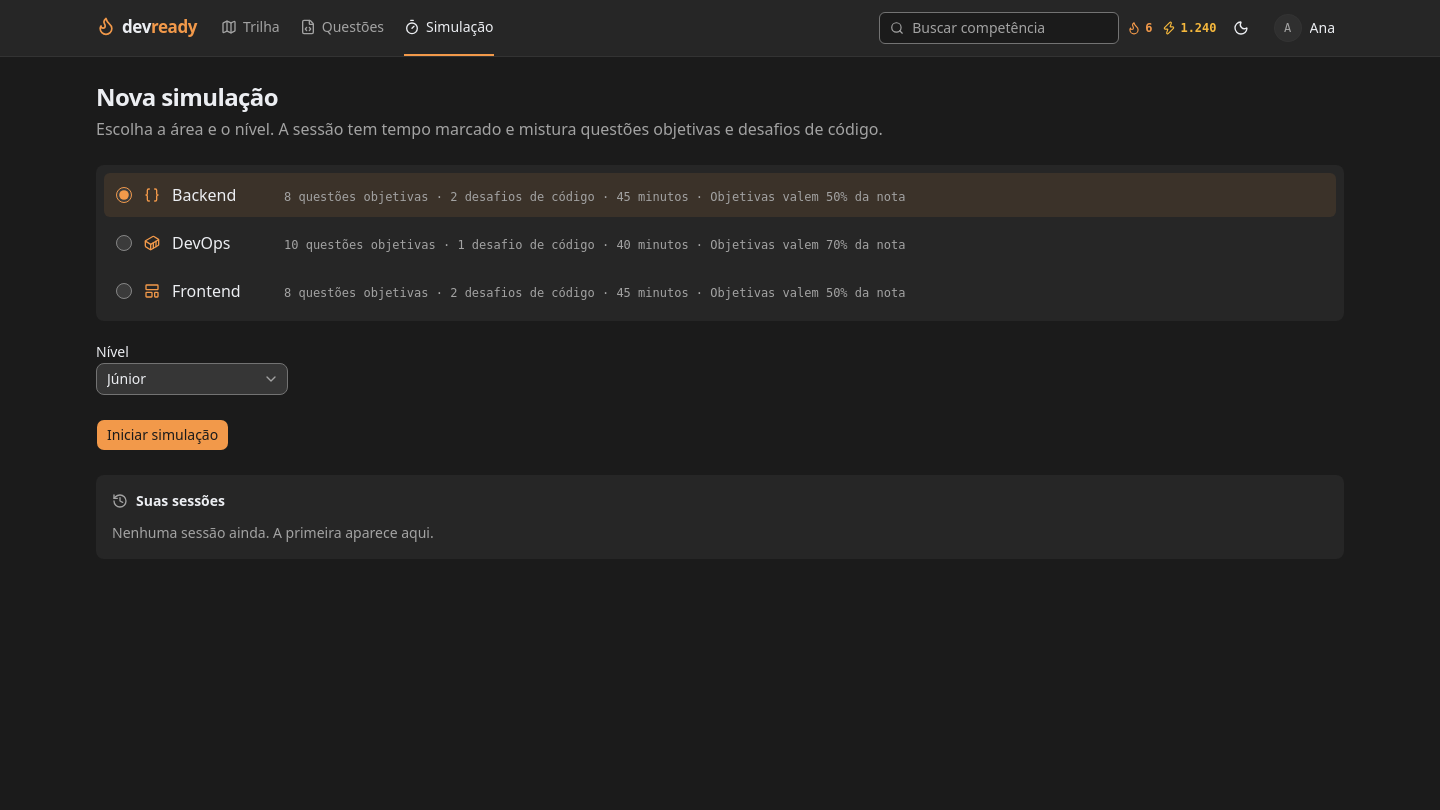
Test case: NewSimulationPage › escolhe o nível no seletor
What coordinates should you click on to do the following:
click the radio button labelled "Backend"
I would click on:
 (124, 195)
Its box is x1=116 y1=187 x2=132 y2=203.
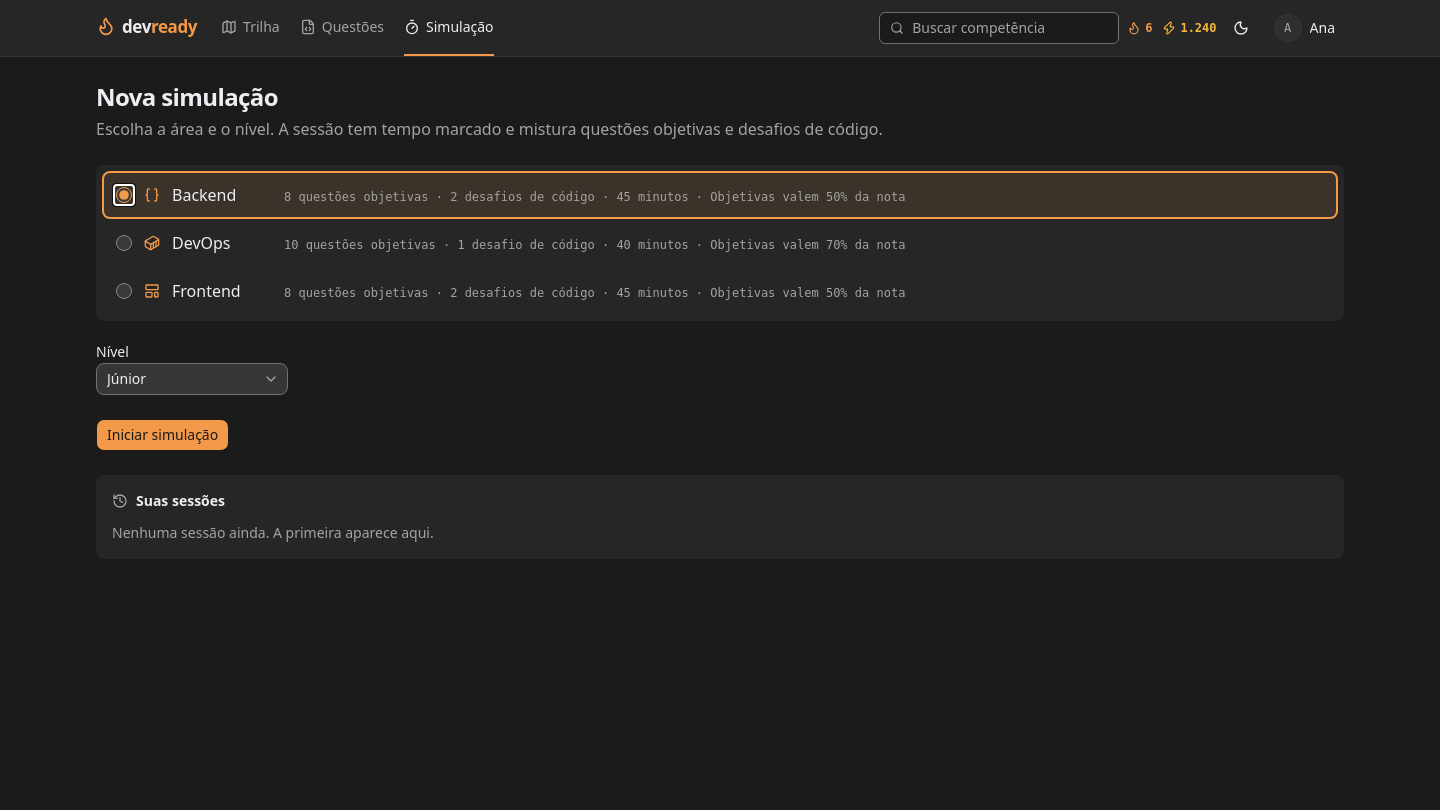
What coordinates should you click on to do the following:
click the dropdown named "Nível"
I would click on:
 (192, 379)
Its box is x1=96 y1=363 x2=288 y2=395.
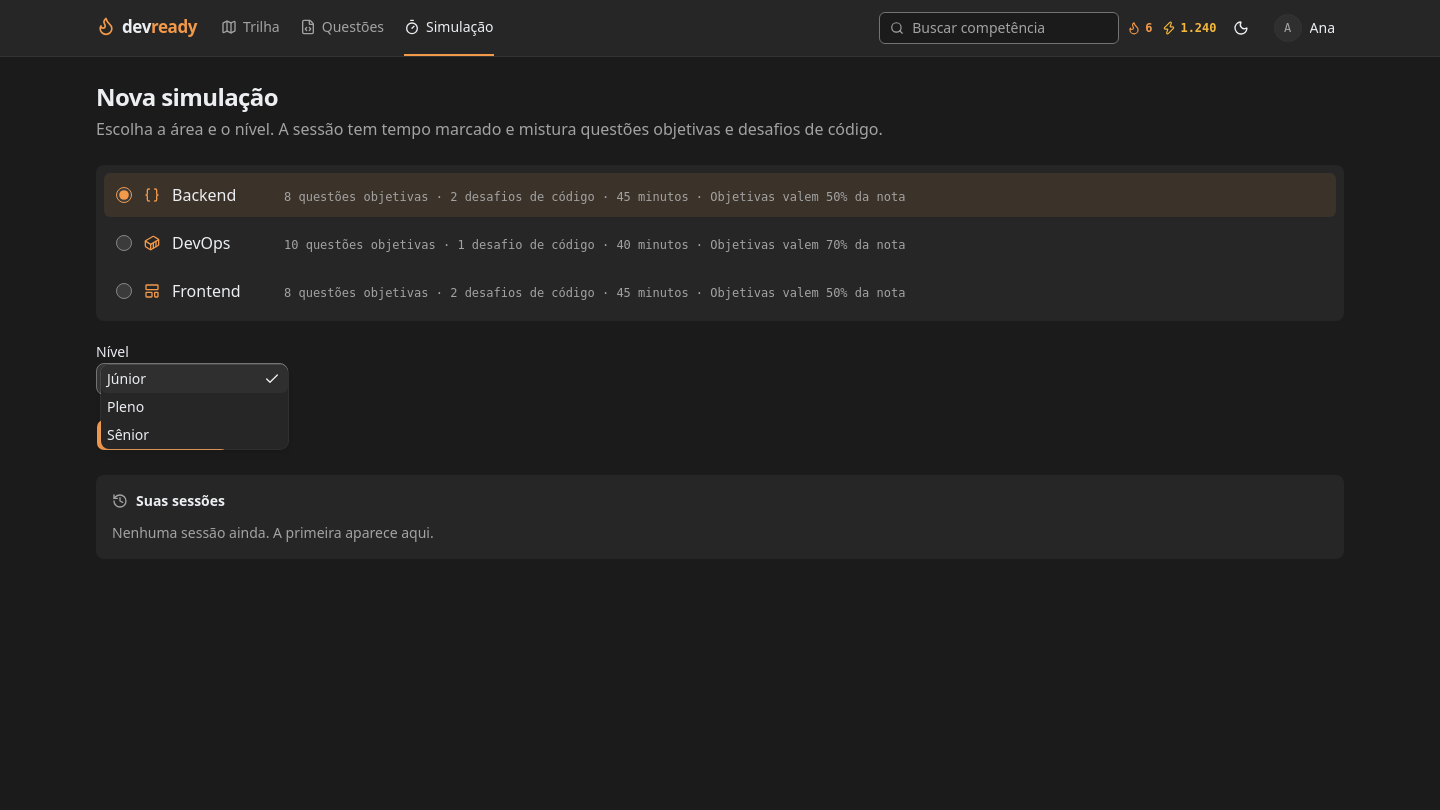
What coordinates should you click on to do the following:
click the option "Pleno"
I would click on:
 (126, 406)
Its box is x1=107 y1=397 x2=144 y2=416.
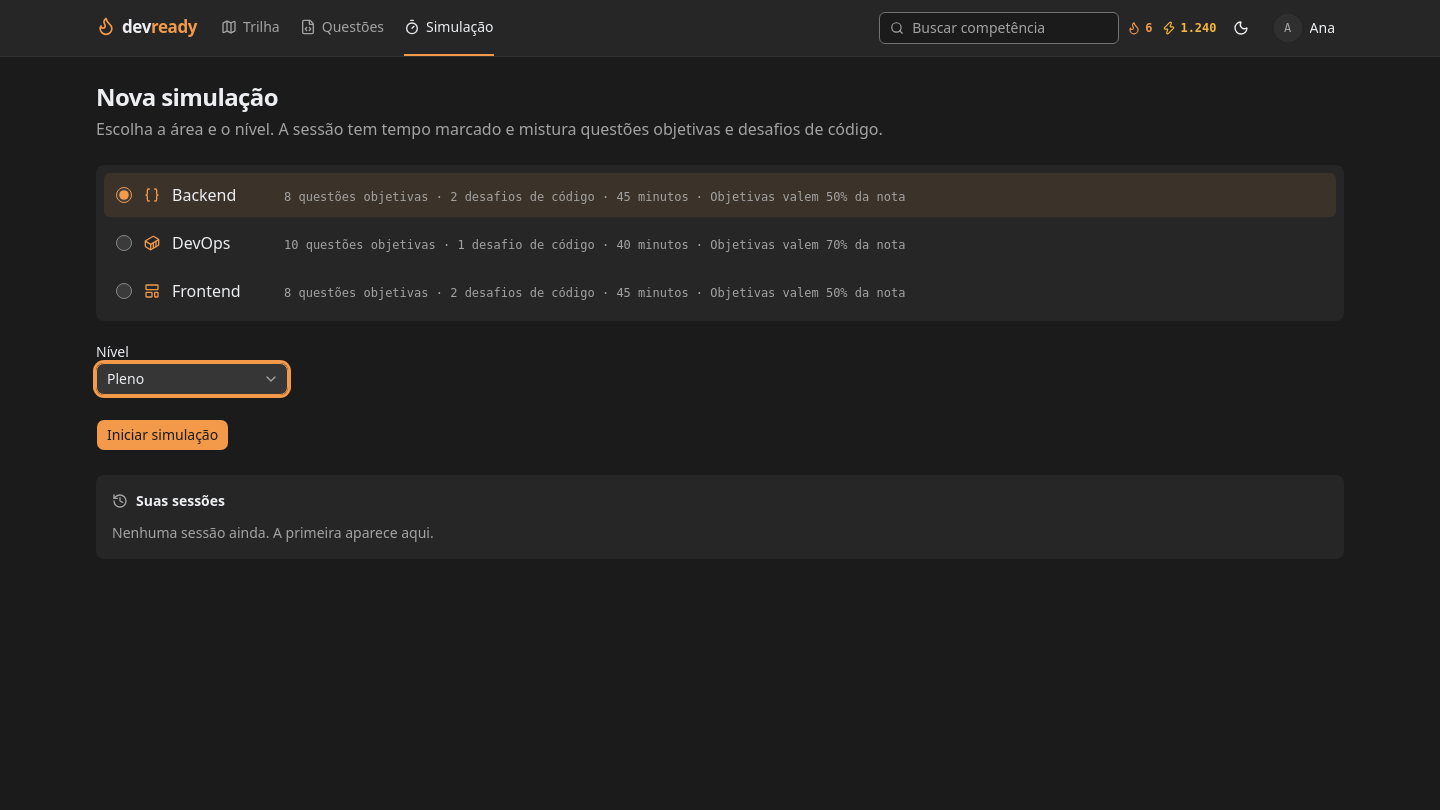
Now the dropdown named "Nível" reads "Pleno", box x1=96 y1=363 x2=288 y2=395
